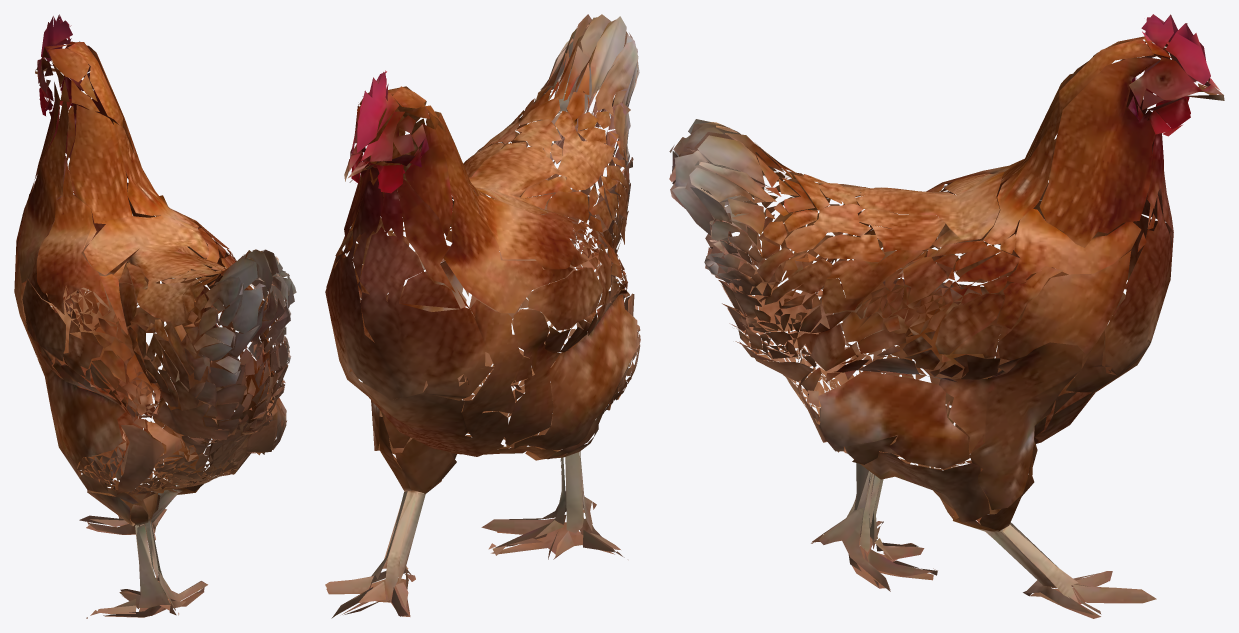
Rendered from obs_hen.glb.
3 renders of one model, left to right at view 1: azimuth 30°, elevation 25°; view 2: azimuth 150°, elevation 25°; view 3: azimuth 270°, elevation 25°, orthographic. The views are drawn at different scales.
Parts seen in each view (by area): view 1: material; view 2: material; view 3: material.
Part boxes in pixels (x1,y1,x2,y2): material: [14, 14, 296, 618]; material: [325, 14, 640, 618]; material: [669, 14, 1224, 618].
Bounding box in the file's own units: 0.4062 × 0.9752 × 0.8596.
1 material, 1 textured.
